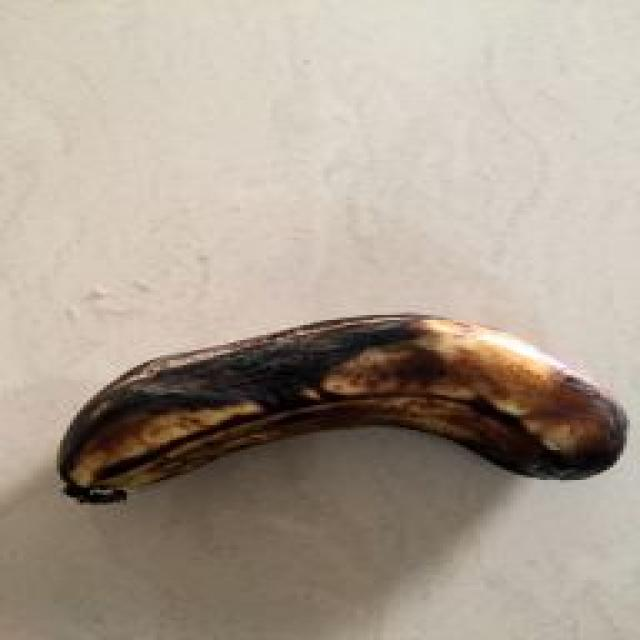Rotten: (17, 283, 640, 529)
